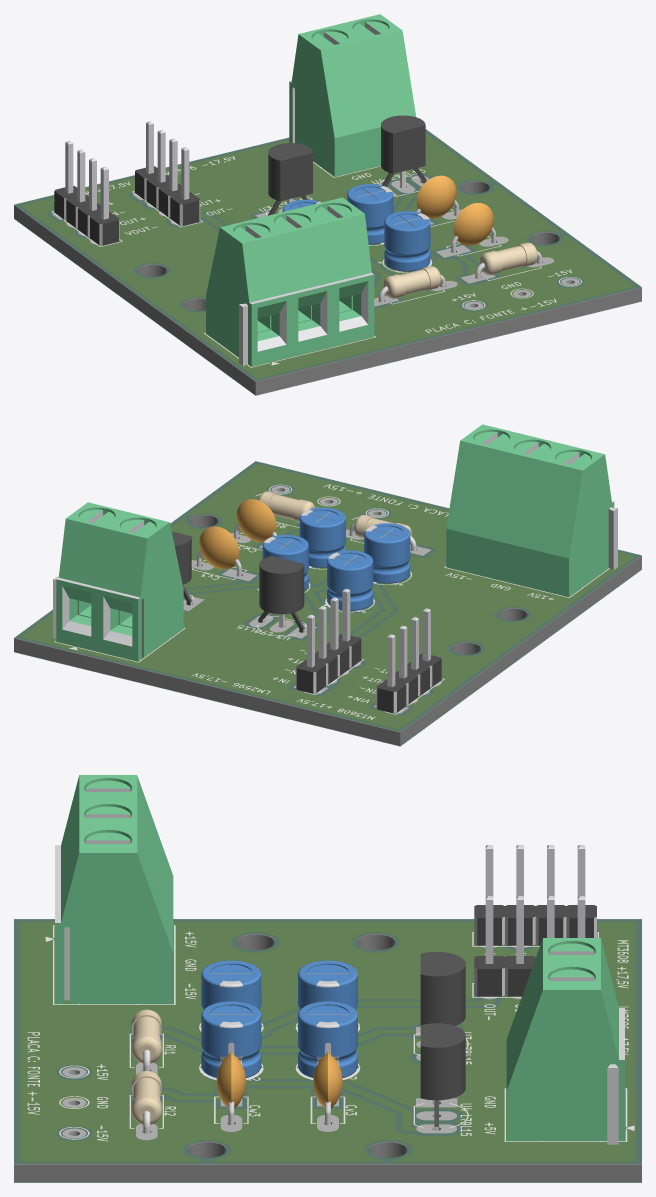
The model's file is board_c.glb.
The picture shows the model from 3 angles, top to bottom: view 1: azimuth 30°, elevation 25°; view 2: azimuth 150°, elevation 25°; view 3: azimuth 270°, elevation 25°; orthographic projection. The views are drawn at different scales.
Parts seen in each view (by area): view 1: =>[0:1:1:12], =>[0:1:1:9], J3, JP, =>[0:1:1:14], MT, LM, U4, Cw2, U3, =>[0:1:1:11], =>[0:1:1:10] (+6 smaller); view 2: =>[0:1:1:12], =>[0:1:1:9], J3, JP, =>[0:1:1:14], LM, MT, U3, =>[0:1:1:11], Cw1, Cv1, Cw2 (+8 smaller); view 3: =>[0:1:1:12], =>[0:1:1:9], J3, =>[0:1:1:14], JP, MT, =>[0:1:1:11], LM, Cw2, Cv2, U4, U3 (+8 smaller).
Part boxes in pixels (x1,y1,x2,y2): =>[0:1:1:12]: (14,129,641,381); =>[0:1:1:9]: (22,134,634,378); J3: (206,197,374,366); JP: (289,14,416,176); =>[0:1:1:14]: (14,130,641,395); MT: (54,140,119,245); LM: (135,121,200,225); U4: (381,115,426,188); Cw2: (384,211,430,271); U3: (268,143,312,215); =>[0:1:1:11]: (51,156,581,367); =>[0:1:1:10]: (52,175,579,309); =>[0:1:1:12]: (14,461,641,731); =>[0:1:1:9]: (21,465,634,728); J3: (446,424,617,596); JP: (53,502,183,661); =>[0:1:1:14]: (14,462,641,745); LM: (296,589,361,693); MT: (376,608,441,713); U3: (258,556,305,632); =>[0:1:1:11]: (54,484,609,719); Cw1: (364,523,410,583); Cv1: (327,550,373,610); Cw2: (299,507,345,567); =>[0:1:1:12]: (14,919,641,1163); =>[0:1:1:9]: (20,922,635,1161); J3: (55,775,173,1003); =>[0:1:1:14]: (14,920,641,1182); JP: (506,938,624,1144); MT: (474,845,596,945); =>[0:1:1:11]: (27,925,634,1141); LM: (474,896,585,996); Cw2: (201,1001,261,1077); Cv2: (297,1001,358,1077); U4: (420,1023,465,1130); U3: (420,951,465,1025).
Bounding box in the file's own units: 0.048 × 0.0173 × 0.052.
